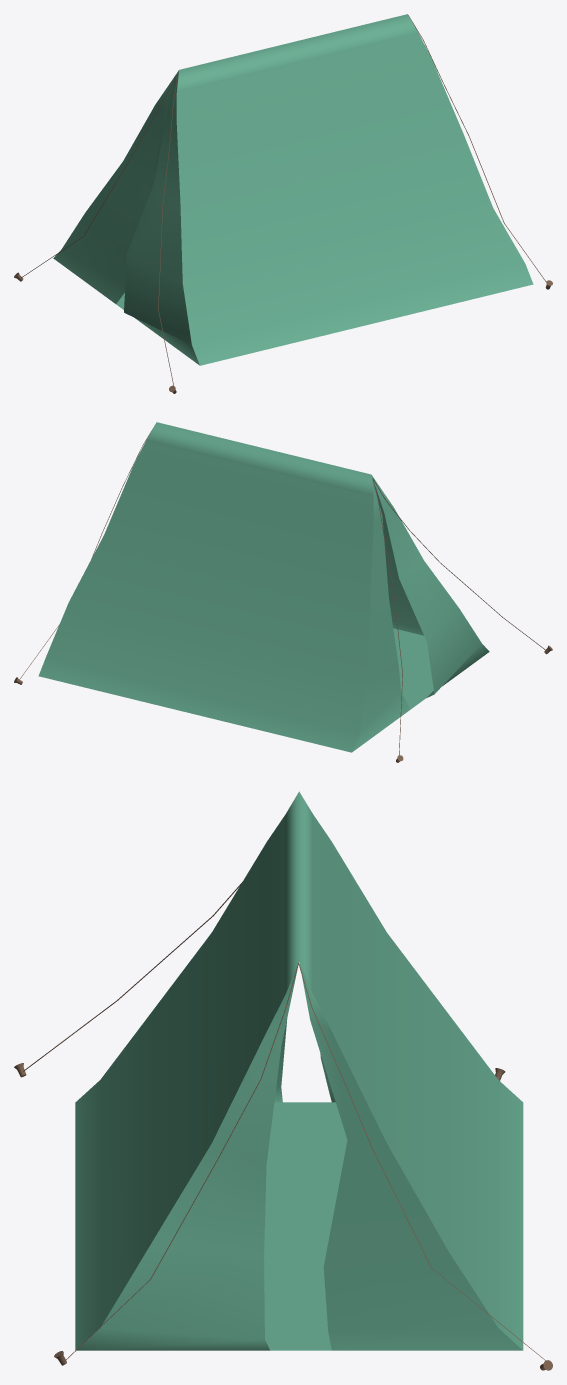
Rendered from tent 3.fbx.
The picture shows the model from 3 angles, top to bottom: view 1: azimuth 30°, elevation 25°; view 2: azimuth 150°, elevation 25°; view 3: azimuth 270°, elevation 25°; orthographic projection. The views are drawn at different scales.
Parts seen in each view (by area): view 1: pCube1; view 2: pCube1; view 3: pCube1.
Boxes of the visible parts, <box> form: pCube1: <box>53,14,533,365</box>; pCube1: <box>38,422,489,752</box>; pCube1: <box>75,791,523,1350</box>.
Size of the model in its own units: 6.57 by 3.71 by 5.02.
